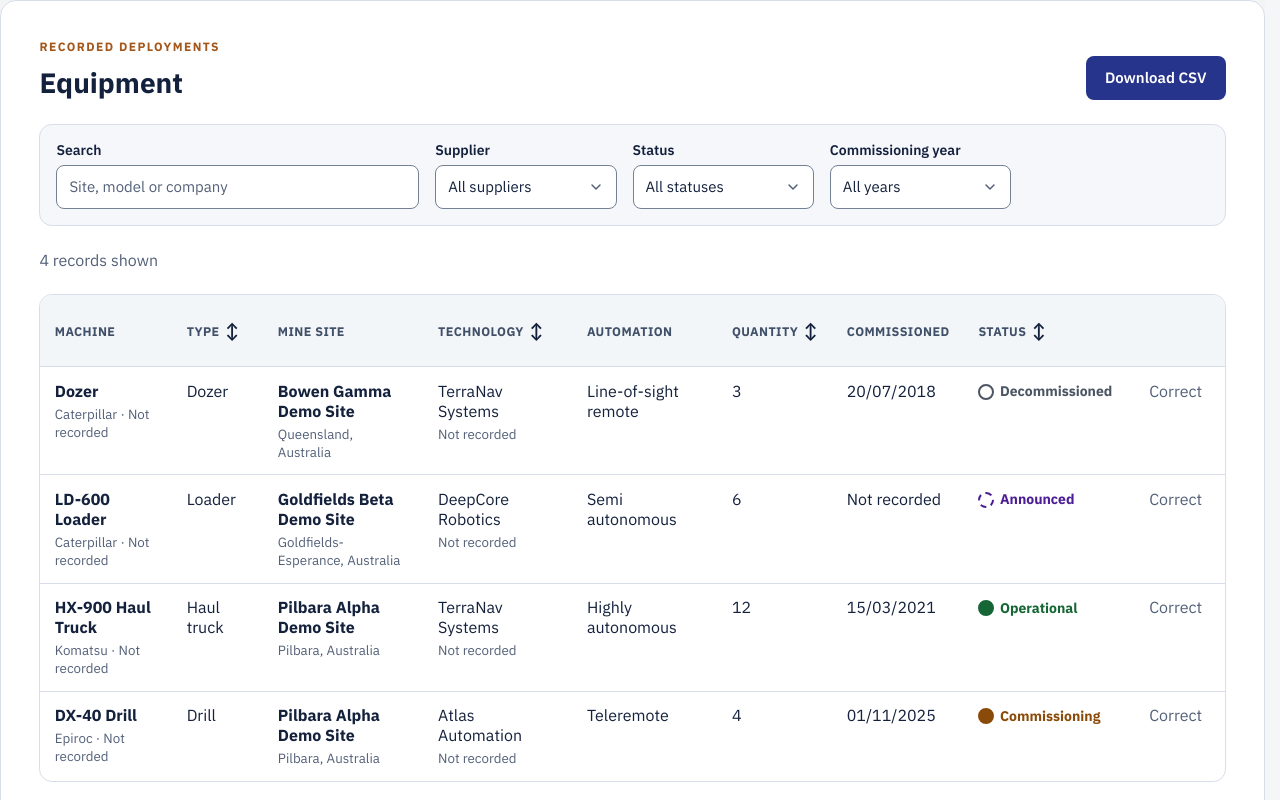
Test: EquipmentPage › filters by commissioning year
Select "2021" in the dropdown labelled "Commissioning year": (921, 187) [830, 165, 1011, 209]
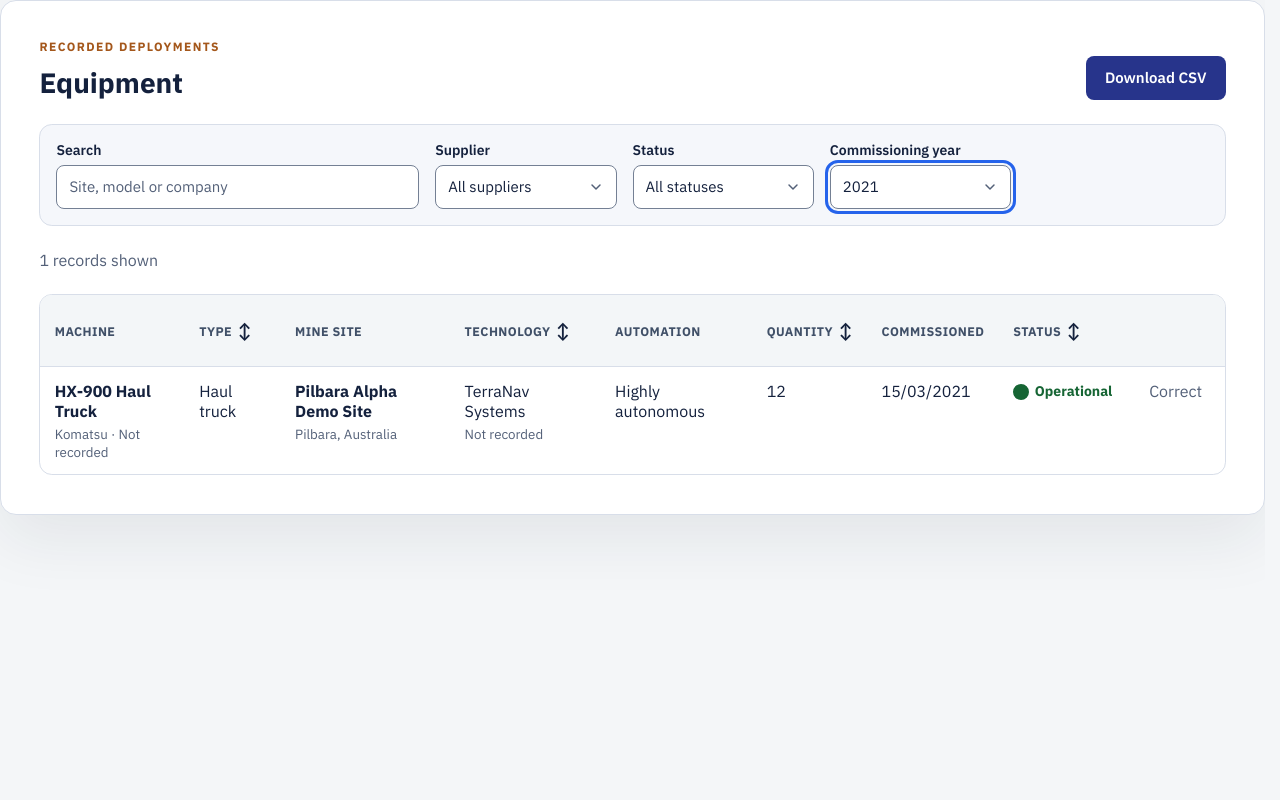
Expected: the text "15/03/2021" is shown, [867, 367, 999, 474]
Result: the text "1 records shown" is shown at [39, 250, 158, 270]
